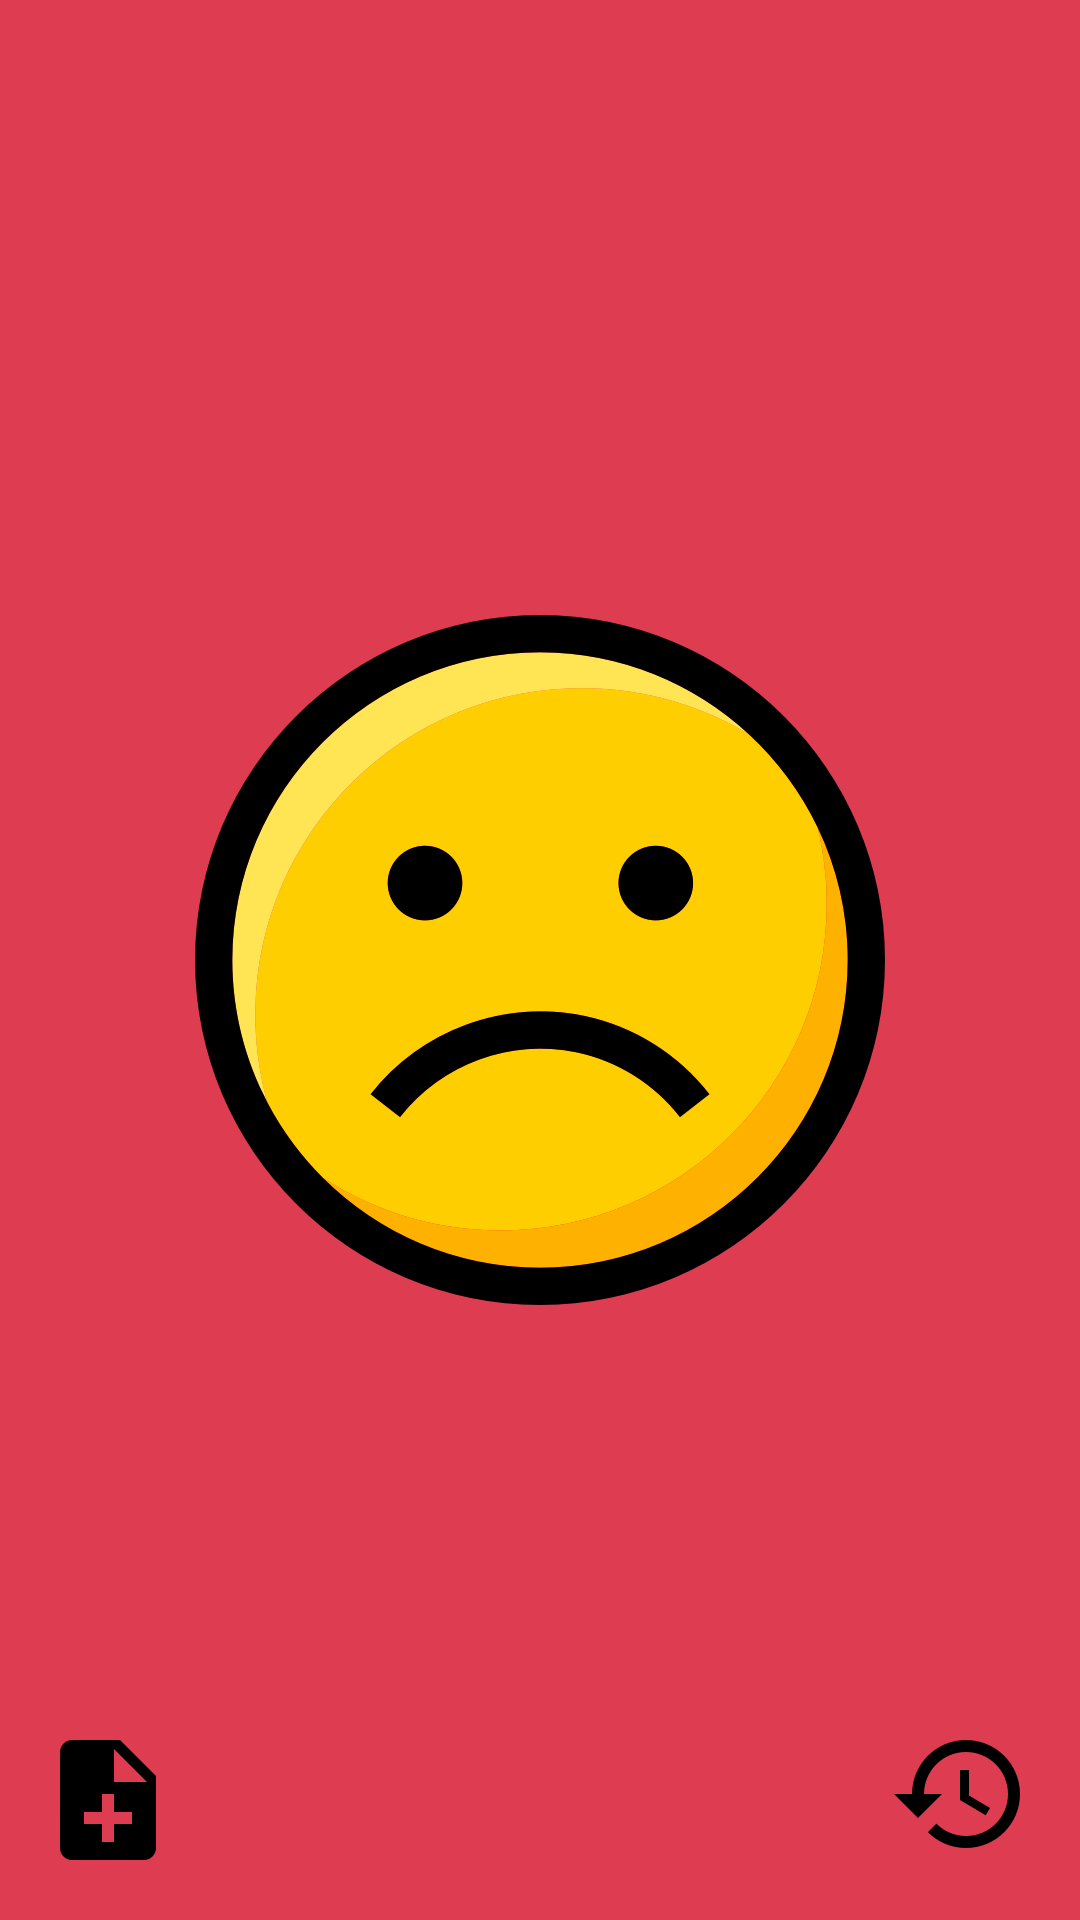

Icon click points for this 1080w x 1920h phone screenshot, format point (x, y):
Get your mood history on past 7 day !: point (957, 1794)
Tell why you feel like this today !: point (108, 1800)
